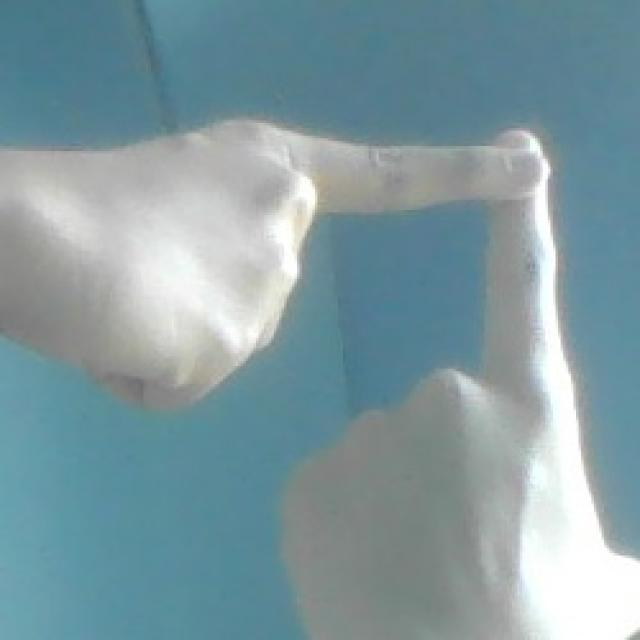Alphabet-J: (1, 94, 602, 627)
